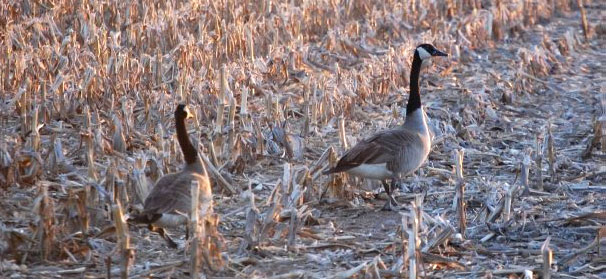goose: (324, 41, 453, 215), (132, 101, 220, 253)
